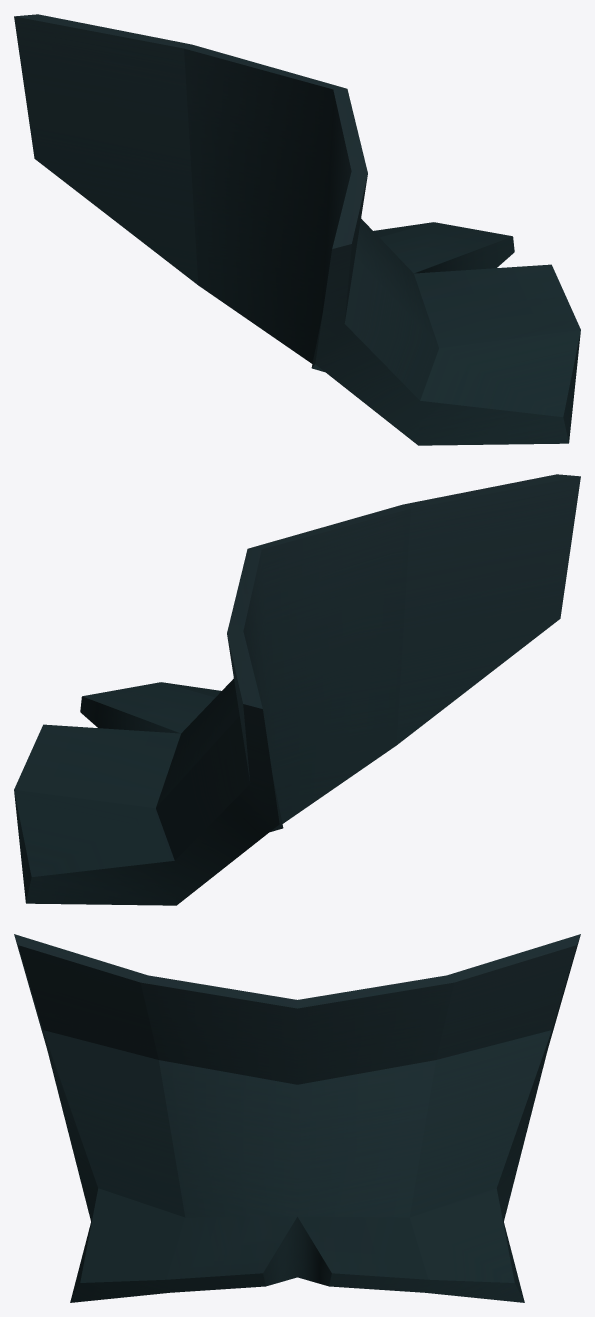
File: SM_Pinguin_Tail.fbx
The picture shows the model from 3 angles, top to bottom: view 1: azimuth 30°, elevation 25°; view 2: azimuth 150°, elevation 25°; view 3: azimuth 270°, elevation 25°; orthographic projection. The views are drawn at different scales.
Parts seen in each view (by area): view 1: SM_Pinguin_Tail; view 2: SM_Pinguin_Tail; view 3: SM_Pinguin_Tail.
Part boxes in pixels (x1=…): SM_Pinguin_Tail: x1=14, y1=14, x2=580, y2=445; SM_Pinguin_Tail: x1=14, y1=474, x2=580, y2=905; SM_Pinguin_Tail: x1=14, y1=934, x2=580, y2=1302.
Bounding box in the file's own units: 21.23 × 16.21 × 32.54.
